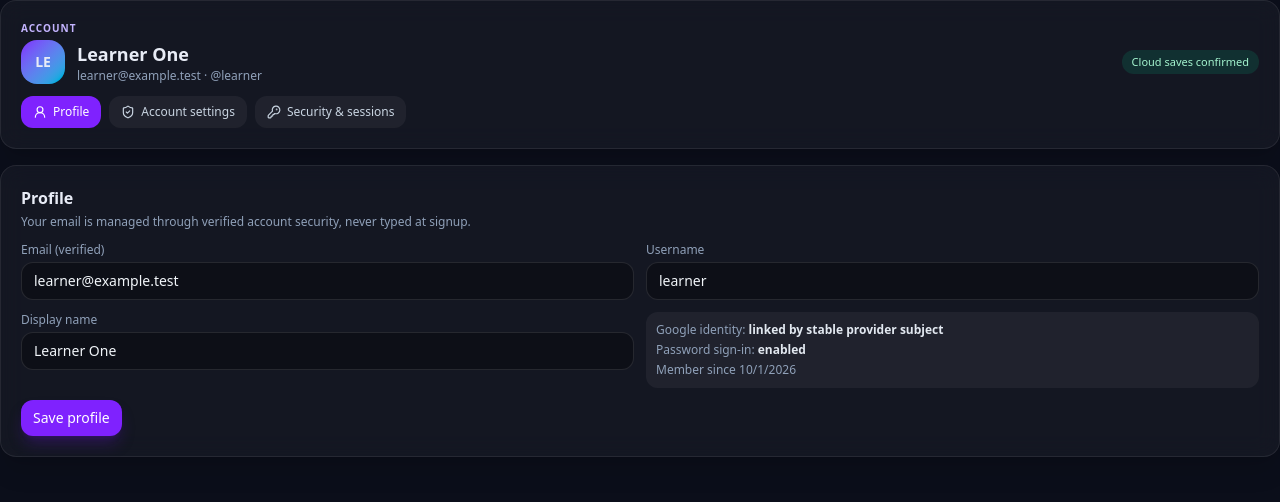
Test: account screen › saves the editable profile without making the verified email editable
Replace the text in the field showing "Learner One" with "New Name" at (328, 351), box [21,332,634,370]
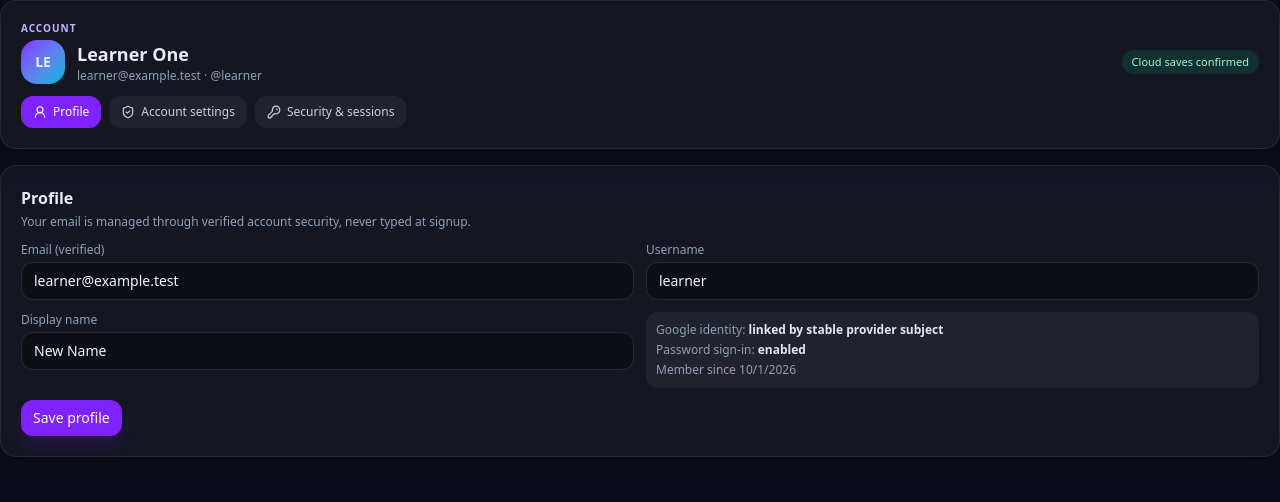
Replace the text in the field showing "learner" with "new_learner" at (952, 281), box [646,262,1259,300]
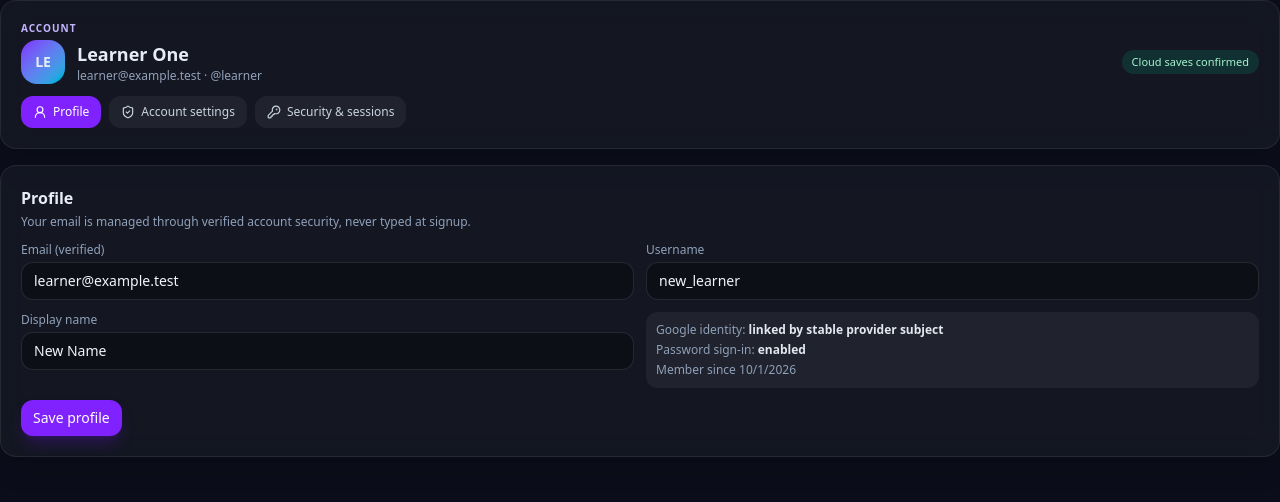
Click the button "Save profile" at (71, 418), box [21,400,122,436]
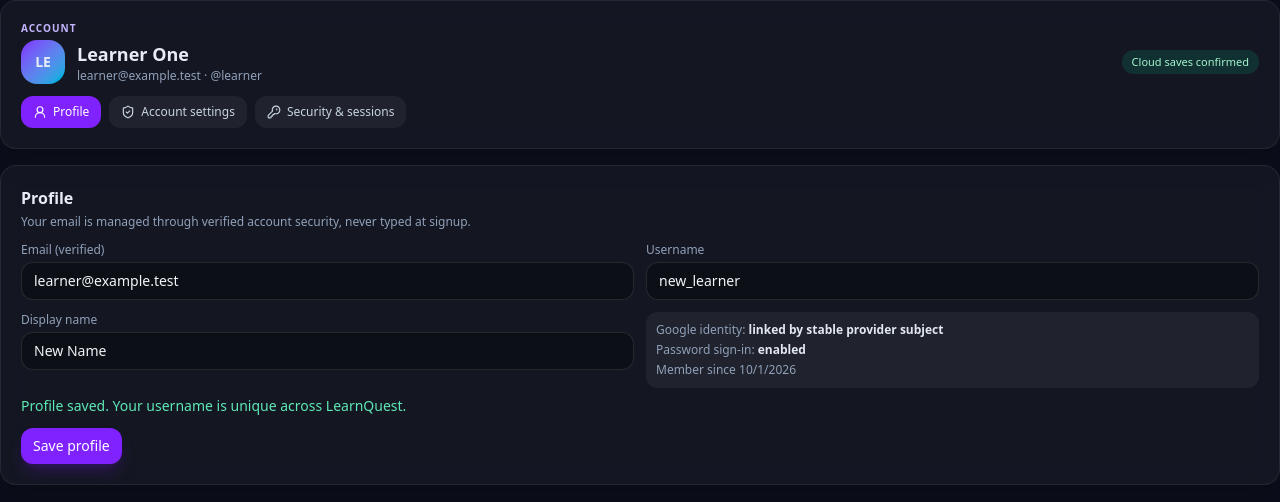
Result: the message shows "Profile saved" at [21,396,406,415]
